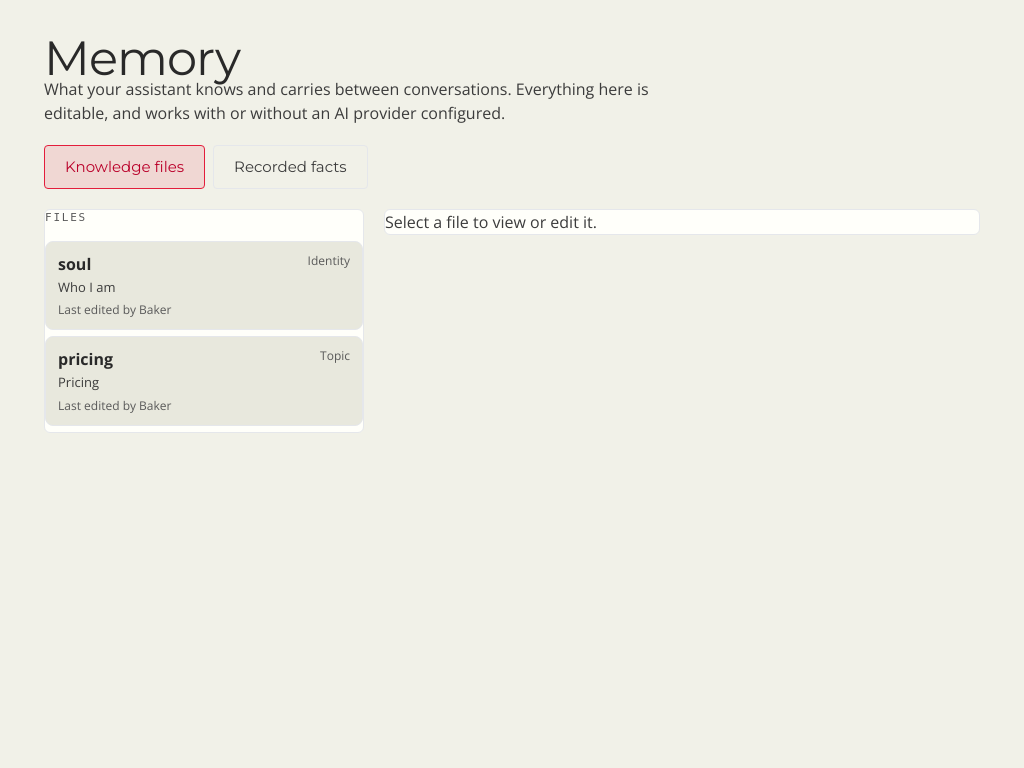
Test: protected context files in the Memory editor › a member can read soul.md but cannot edit or save it
The image size is (1024, 768).
Click the button "soul Identity Who I am Last edited by Baker" at (75, 264), box [45,241,363,330]
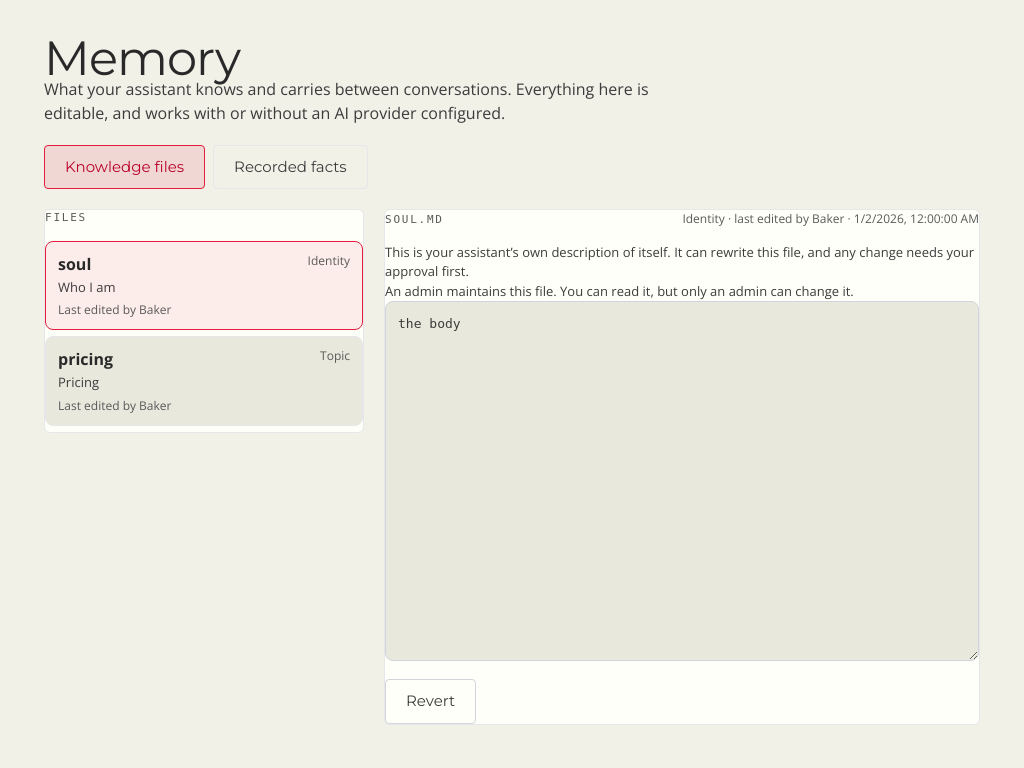
Expected: the text box holds "the body", [385,301,979,661]
Expected: the text "An admin maintains this file" is shown, [385,282,854,300]
